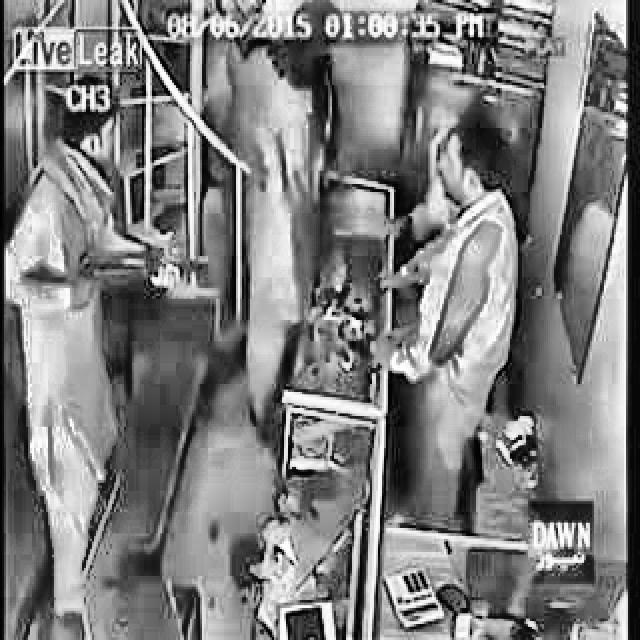robbery: (7, 72, 209, 623)
